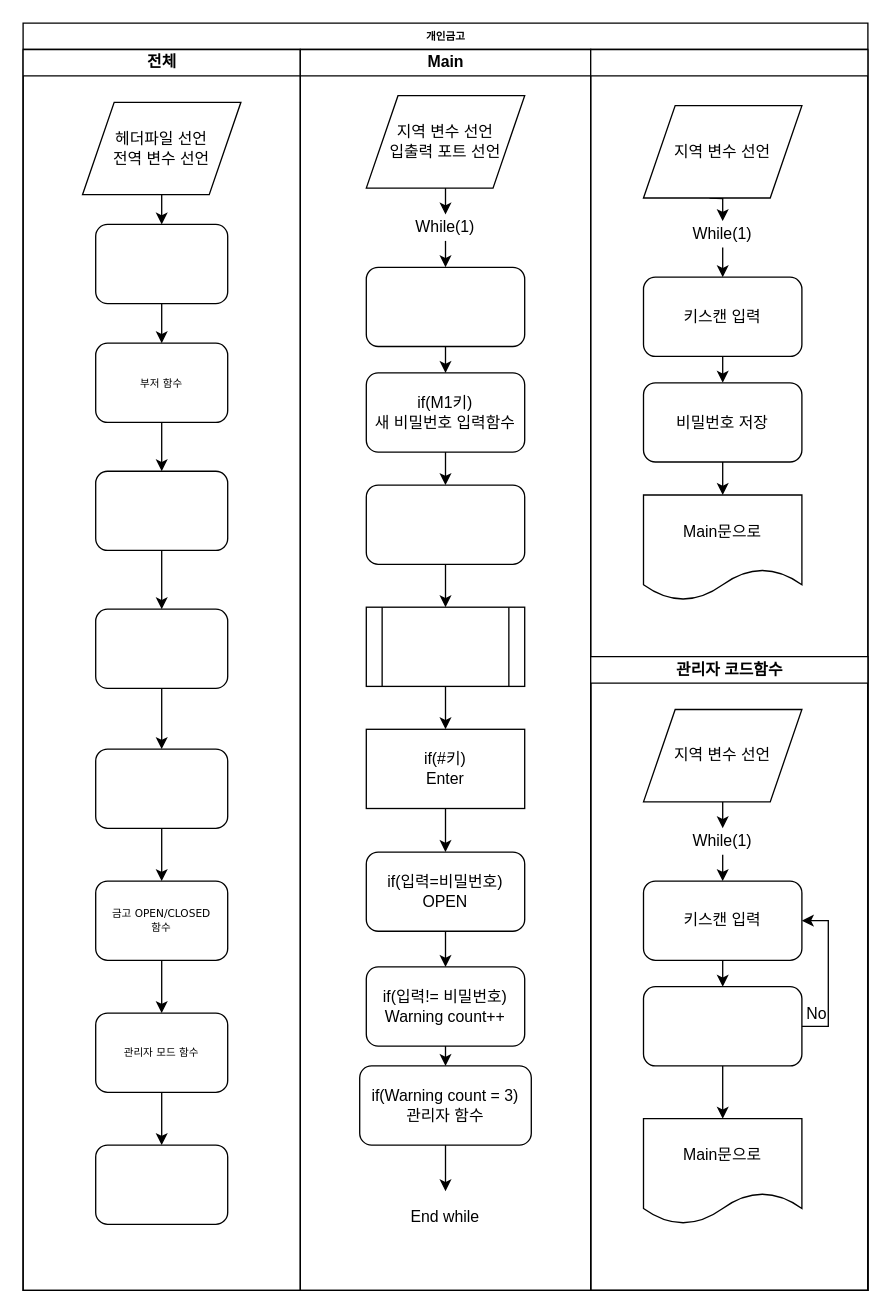
This 891x1313 diagram has some shape labels left out. Each missing label, with the box of its shape:
if(*키) 금고 열림: (365, 266, 525, 346)
if(M2) Delete 알고리즘: (365, 484, 525, 564)
if(관리자코드 = 입력) break: (642, 985, 802, 1066)
딜레이 함수: (94, 223, 228, 304)
메인문: (94, 1144, 228, 1224)
비밀번호 입력: (365, 606, 525, 686)
새 비밀번호 입력 함수: (589, 48, 868, 1290)
새 비밀번호 함수: (94, 748, 228, 828)
키스캔 함수: (94, 608, 228, 688)
포트 선언 함수: (94, 470, 228, 550)
